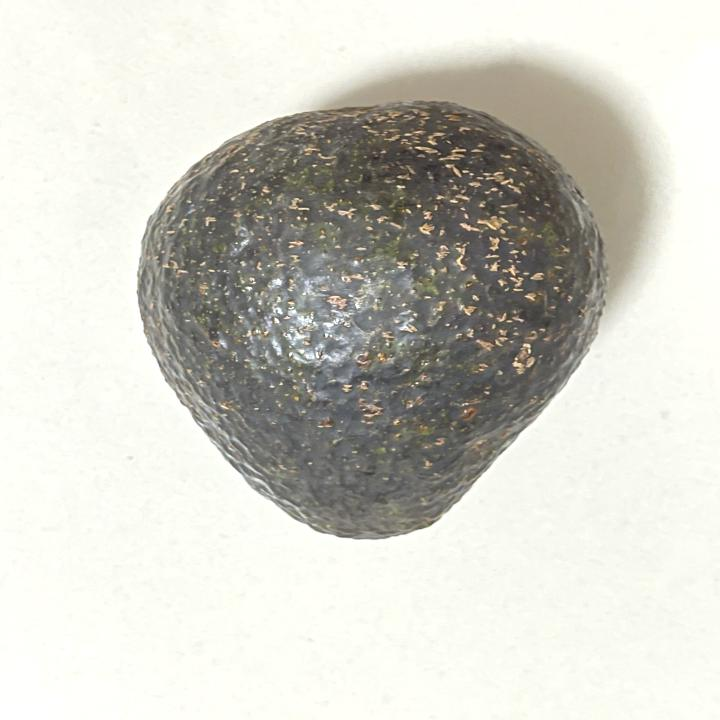Level1: (125, 90, 629, 558)
